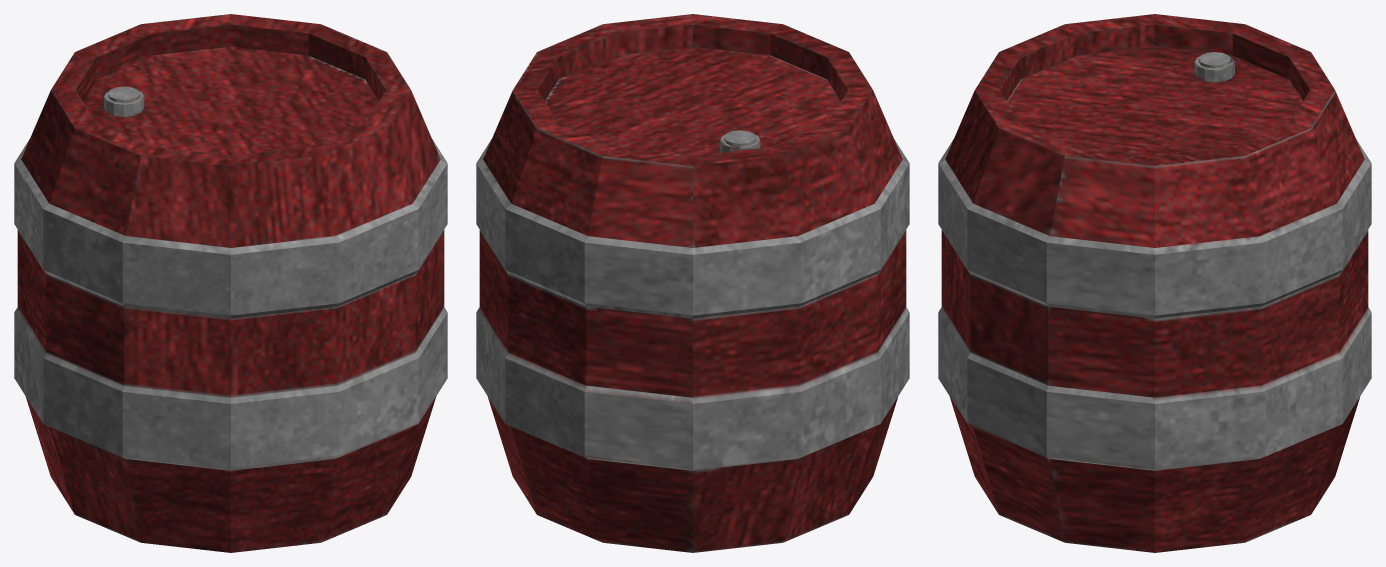
Rendered from TNTBarrel.fbx.
The picture shows the model from 3 angles, left to right: view 1: azimuth 30°, elevation 25°; view 2: azimuth 150°, elevation 25°; view 3: azimuth 270°, elevation 25°; orthographic projection.
Visible parts, largest first — view 1: Barrel; view 2: Barrel; view 3: Barrel.
Part boxes in pixels (x1,y1,x2,y2): Barrel: (14,14,447,552); Barrel: (476,14,909,552); Barrel: (938,14,1371,552).
Bounding box in the file's own units: 1.33 × 1.31 × 1.33.
1 material, 1 textured.
